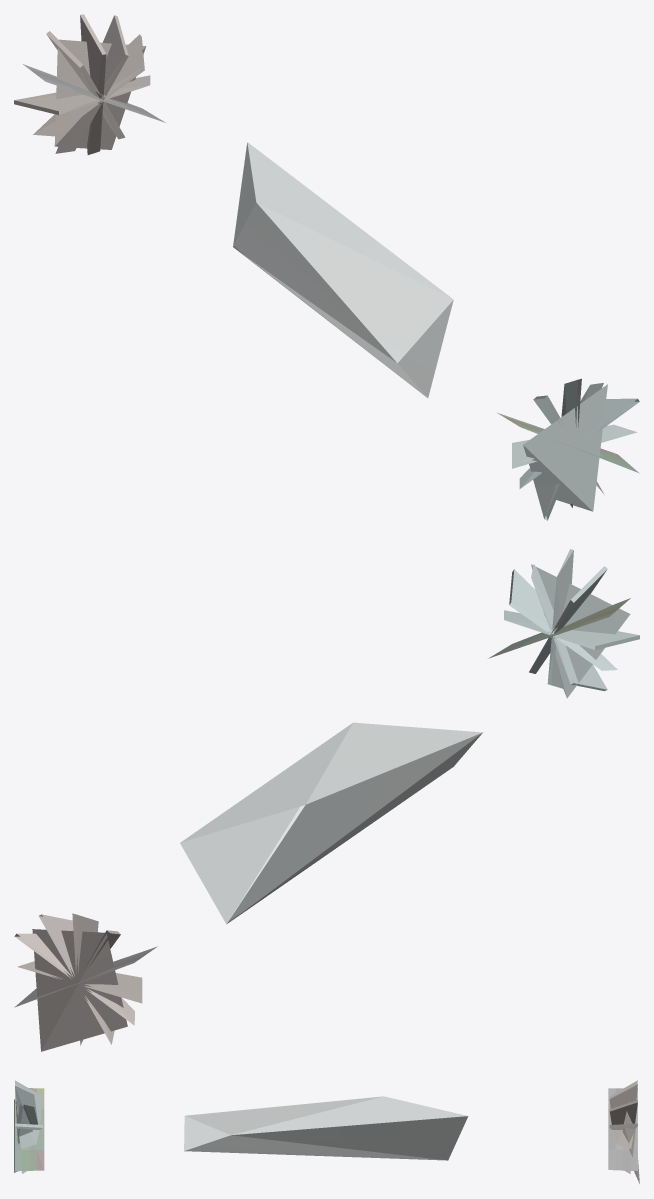
The model's file is ztzz001-geode.glb.
3 renders of one model, top to bottom at view 1: azimuth 30°, elevation 25°; view 2: azimuth 150°, elevation 25°; view 3: azimuth 270°, elevation 25°, orthographic. The views are drawn at different scales.
Visible parts, largest first — view 1: Node; view 2: Node; view 3: Node.
Boxes of the visible parts, left/top/right/bottom form: Node: left=14, top=14, right=639, bottom=520; Node: left=14, top=549, right=639, bottom=1051; Node: left=14, top=1080, right=639, bottom=1183.
Bounding box in the file's own units: 0.3848 × 0.406 × 2.55.
1 material, 1 textured.
